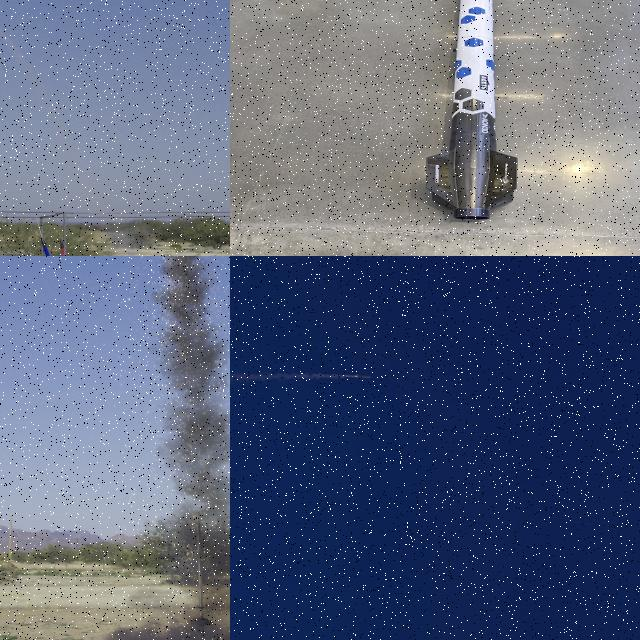Rocket: (426, 0, 518, 221), (40, 237, 64, 256), (59, 238, 76, 256), (354, 373, 372, 379)
